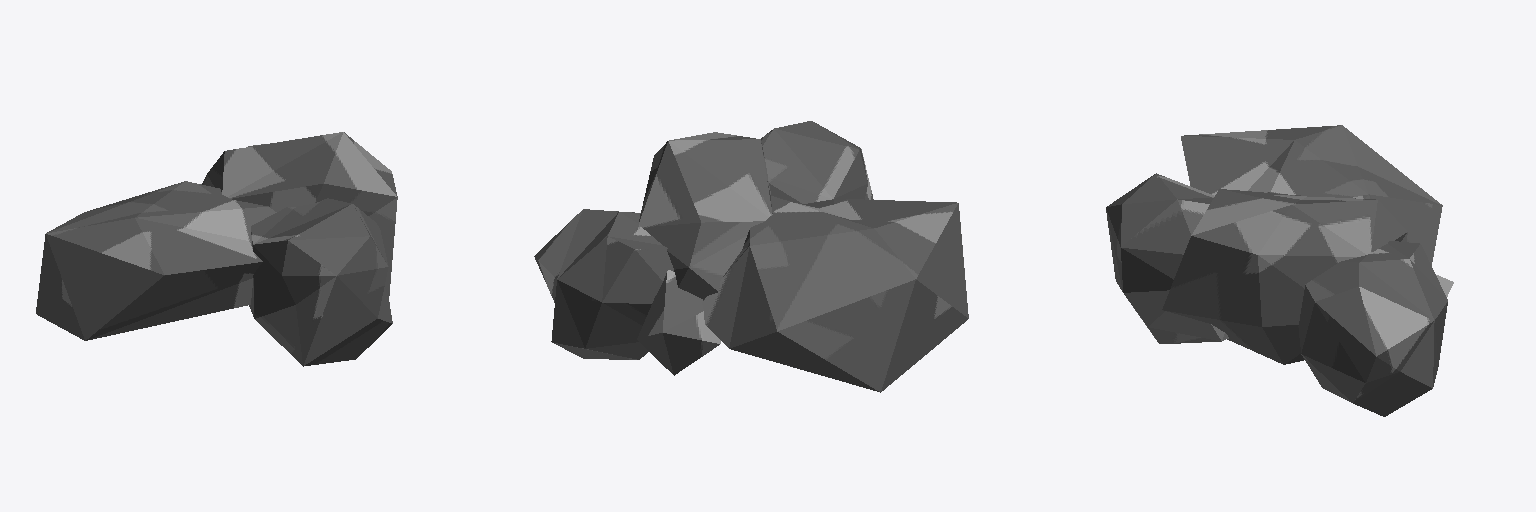
3 renders of one model, left to right at view 1: azimuth 30°, elevation 25°; view 2: azimuth 150°, elevation 25°; view 3: azimuth 270°, elevation 25°, orthographic.
Visible parts, largest first — view 1: ROCKS_Cube.004; view 2: ROCKS_Cube.004; view 3: ROCKS_Cube.004.
Part boxes in pixels (x1,y1,x2,y2): ROCKS_Cube.004: (36, 132, 397, 366); ROCKS_Cube.004: (534, 121, 968, 392); ROCKS_Cube.004: (1106, 125, 1453, 416).
Bounding box in the file's own units: 5.6 × 2.79 × 4.55.
1 materials, 1 textured.